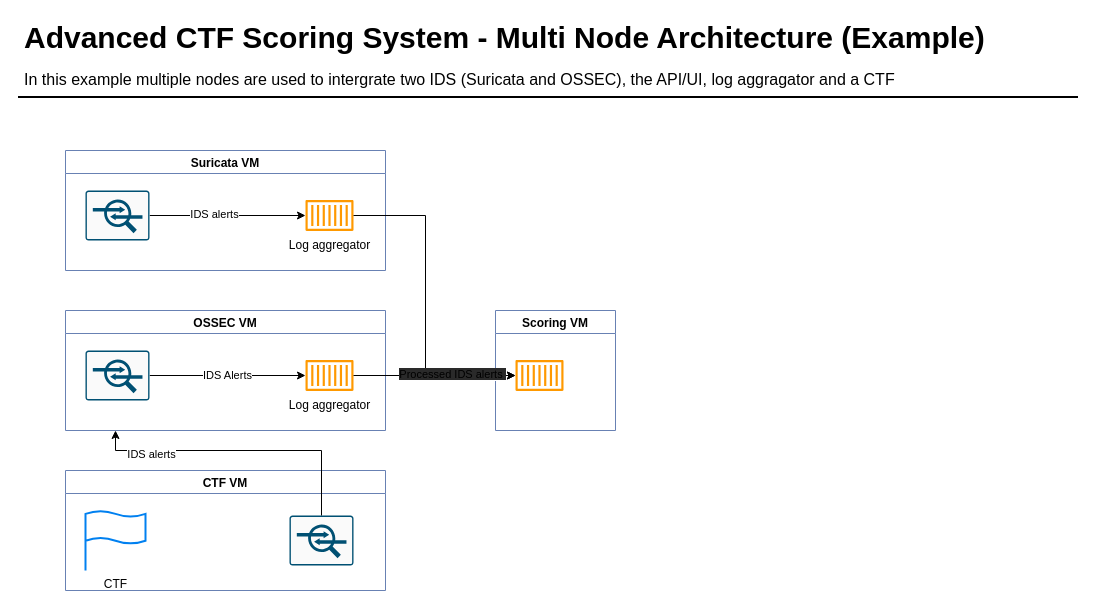
Image size: 1096x609. Some labels were removed from this diagram. Each missing label, with the centre of its shape:
API/UI: the point at 539,375
OSSEC agent: the point at 321,540
OSSEC server: the point at 117,375
Suricata: the point at 117,215
